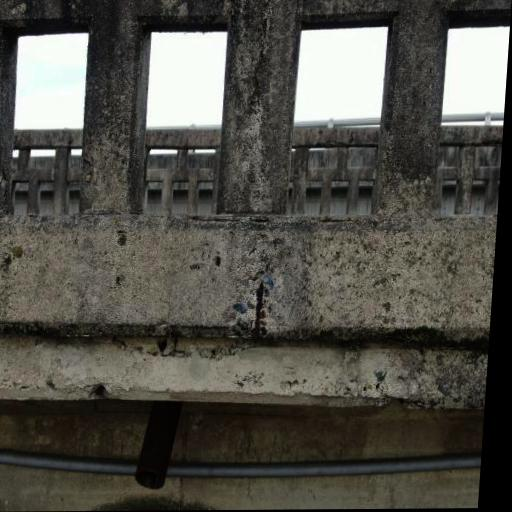exposed_rebar: (251, 282, 264, 339)
